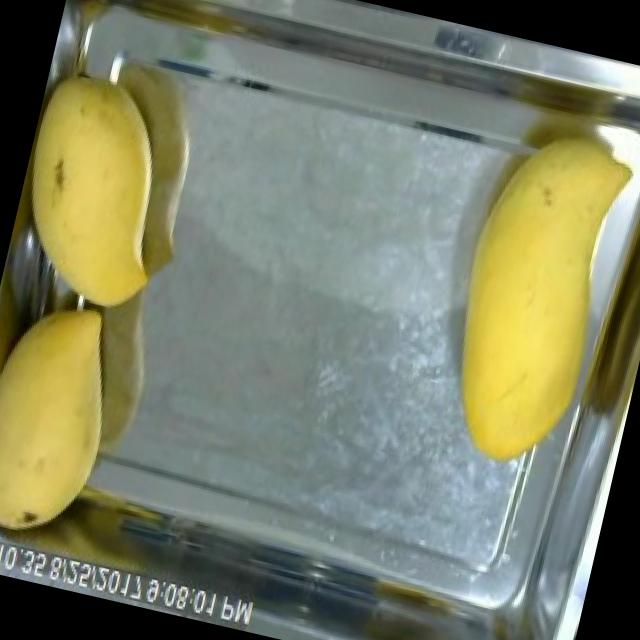fruit: (412, 100, 640, 481), (0, 57, 194, 327), (0, 277, 150, 560)
